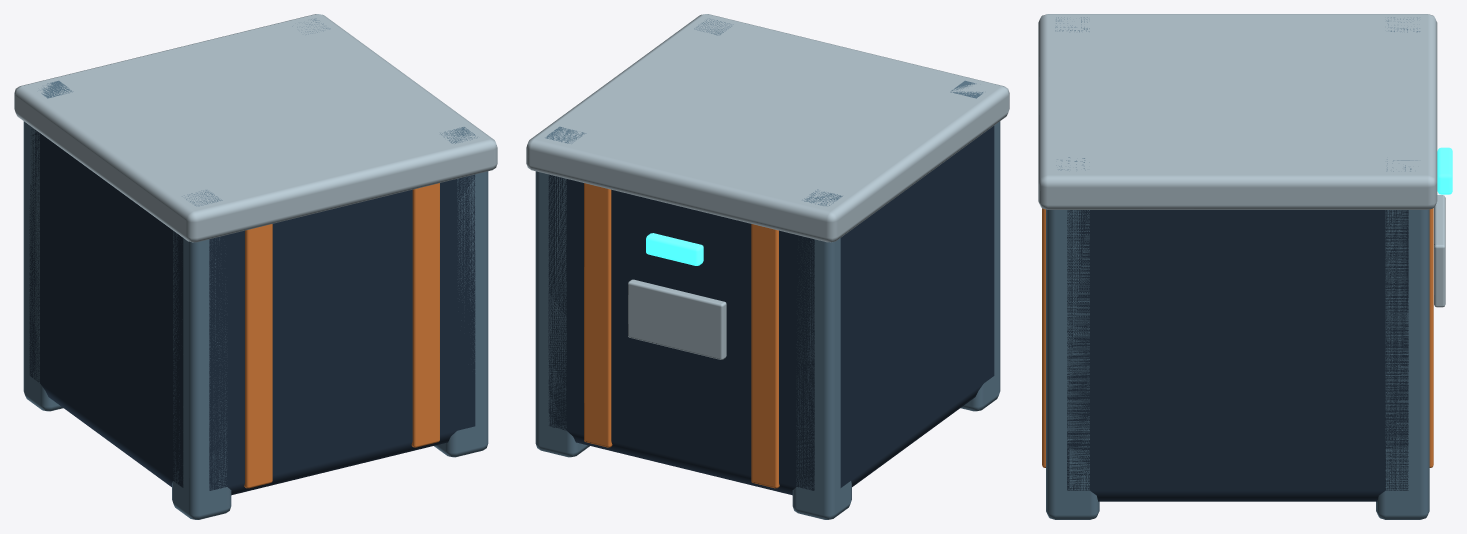
File: cargo-crate.glb
3 renders of one model, left to right at view 1: azimuth 30°, elevation 25°; view 2: azimuth 150°, elevation 25°; view 3: azimuth 270°, elevation 25°, orthographic. The views are drawn at different scales.
Parts seen in each view (by area): view 1: case, lid, corner--0.43-0.43, strap--0.28, strap-0.28, corner-0.43-0.43, corner--0.43--0.43; view 2: case, lid, corner--0.43--0.43, corner-0.43--0.43, strap--0.28, strap-0.28, label, corner--0.43-0.43, latch; view 3: case, lid, corner-0.43--0.43, corner-0.43-0.43, strap-0.28, label, latch.
Part boxes in pixels (x1,y1,x2,y2): case: (29,129,475,495); lid: (14,14,497,242); corner--0.43-0.43: (172,190,231,519); strap--0.28: (244,224,272,488); strap-0.28: (411,183,439,447); corner-0.43-0.43: (434,127,488,457); corner--0.43--0.43: (23,80,73,411); case: (548,126,994,495); lid: (526,14,1009,242); corner--0.43--0.43: (792,189,851,519); corner-0.43--0.43: (535,126,589,457); strap--0.28: (751,224,779,488); strap-0.28: (584,183,612,447); label: (628,279,726,359); corner--0.43-0.43: (950,80,1000,411); latch: (646,233,703,265); case: (1067,210,1408,501); lid: (1038,14,1437,209); corner-0.43--0.43: (1376,159,1429,519); corner-0.43-0.43: (1046,157,1099,519); strap-0.28: (1042,208,1433,467); label: (1434,195,1445,307); latch: (1437,147,1452,194).
Size of the model in its own units: 1.04 by 1 by 1.08.
